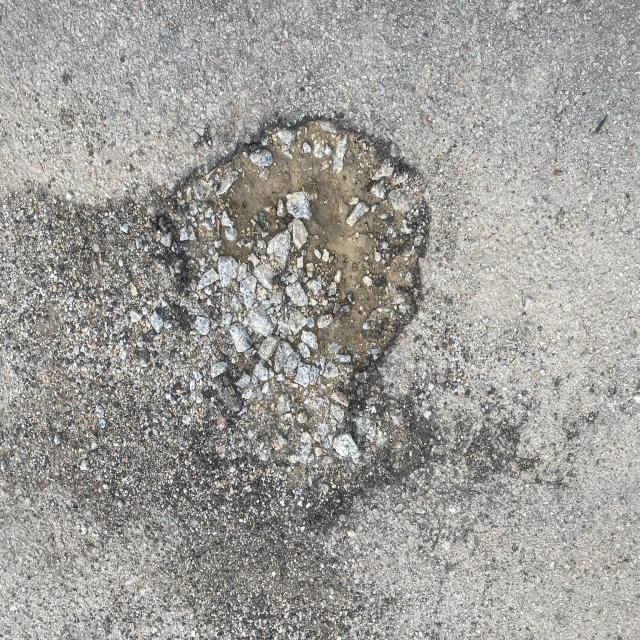pothole: (143, 82, 529, 510)
